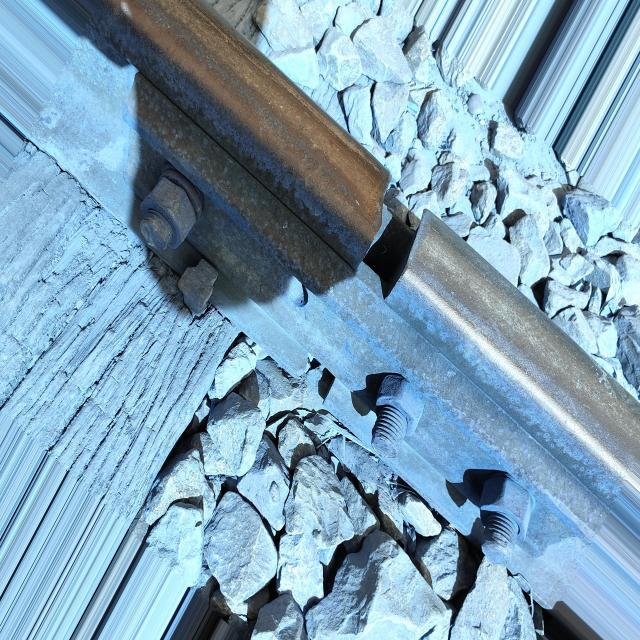Defective Joint: (50, 36, 626, 608)
